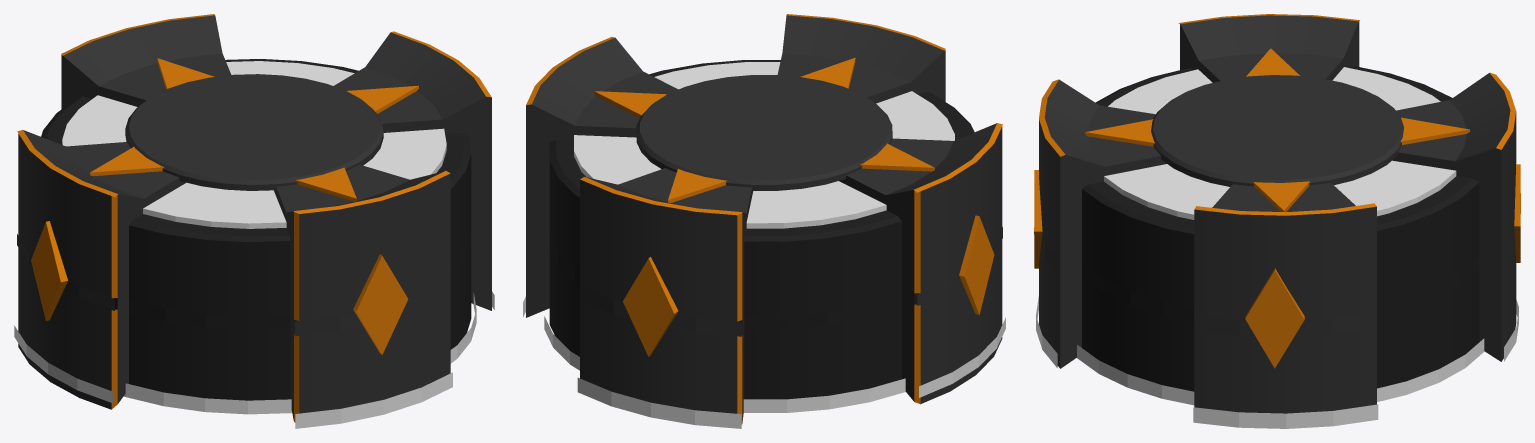
3 renders of one model, left to right at view 1: azimuth 30°, elevation 25°; view 2: azimuth 150°, elevation 25°; view 3: azimuth 270°, elevation 25°, orthographic.
Parts seen in each view (by area): view 1: Cylinder, Cylinder.002, Cylinder.009, Cylinder.007, Cylinder.008, Cylinder.010, Cylinder.012, Cylinder.004, Cylinder.005; view 2: Cylinder, Cylinder.002, Cylinder.009, Cylinder.007, Cylinder.008, Cylinder.010, Cylinder.001, Cylinder.004, Cylinder.005; view 3: Cylinder, Cylinder.002, Cylinder.009, Cylinder.007, Cylinder.010, Cylinder.011, Cylinder.004, Cylinder.008, Cylinder.012, Cylinder.001.
Boxes of the visible parts, bbox=[...] form: Cylinder: bbox=[18, 15, 491, 420]; Cylinder.002: bbox=[41, 59, 471, 400]; Cylinder.009: bbox=[125, 74, 383, 190]; Cylinder.007: bbox=[14, 61, 494, 428]; Cylinder.008: bbox=[17, 14, 491, 422]; Cylinder.010: bbox=[90, 58, 418, 201]; Cylinder.012: bbox=[353, 254, 408, 354]; Cylinder.004: bbox=[17, 234, 450, 336]; Cylinder.005: bbox=[31, 221, 67, 320]; Cylinder: bbox=[526, 15, 1002, 423]; Cylinder.002: bbox=[549, 60, 974, 399]; Cylinder.009: bbox=[636, 75, 892, 190]; Cylinder.007: bbox=[523, 62, 1005, 428]; Cylinder.008: bbox=[526, 14, 1002, 424]; Cylinder.010: bbox=[594, 57, 934, 202]; Cylinder.001: bbox=[623, 257, 678, 356]; Cylinder.004: bbox=[580, 227, 1002, 336]; Cylinder.005: bbox=[959, 215, 994, 314]; Cylinder: bbox=[1039, 15, 1516, 413]; Cylinder.002: bbox=[1082, 65, 1479, 391]; Cylinder.009: bbox=[1151, 75, 1403, 186]; Cylinder.007: bbox=[1036, 67, 1518, 428]; Cylinder.010: bbox=[1085, 48, 1469, 212]; Cylinder.011: bbox=[1245, 268, 1304, 368]; Cylinder.004: bbox=[1041, 230, 1514, 336]; Cylinder.008: bbox=[1039, 14, 1516, 215]; Cylinder.012: bbox=[1034, 170, 1042, 268]; Cylinder.001: bbox=[1514, 164, 1520, 262].
Size of the model in its own units: 257 by 124 by 257.
